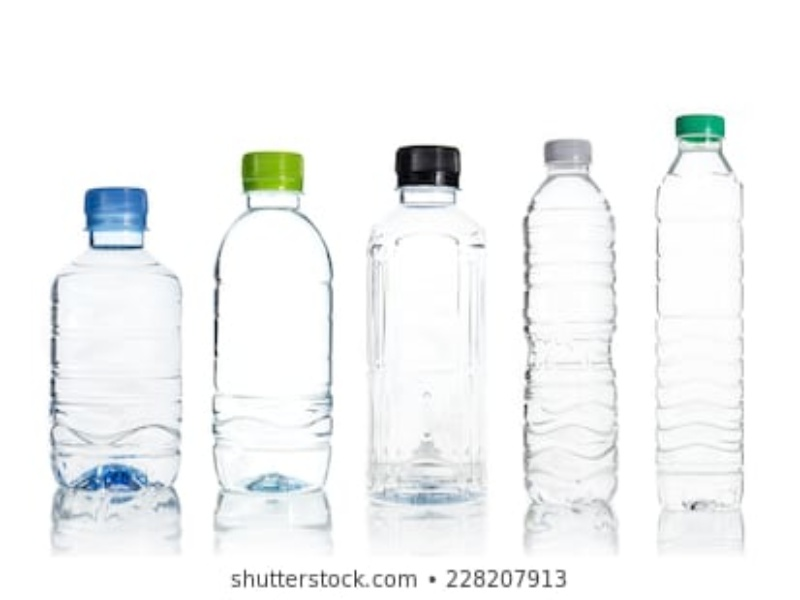bottle-cap: (389, 144, 468, 193), (237, 150, 311, 196), (81, 186, 149, 228), (669, 109, 730, 144), (538, 137, 597, 164)
plastic-bottle: (361, 140, 496, 508), (46, 184, 187, 496), (211, 148, 336, 499), (651, 108, 752, 514), (519, 136, 626, 511)
